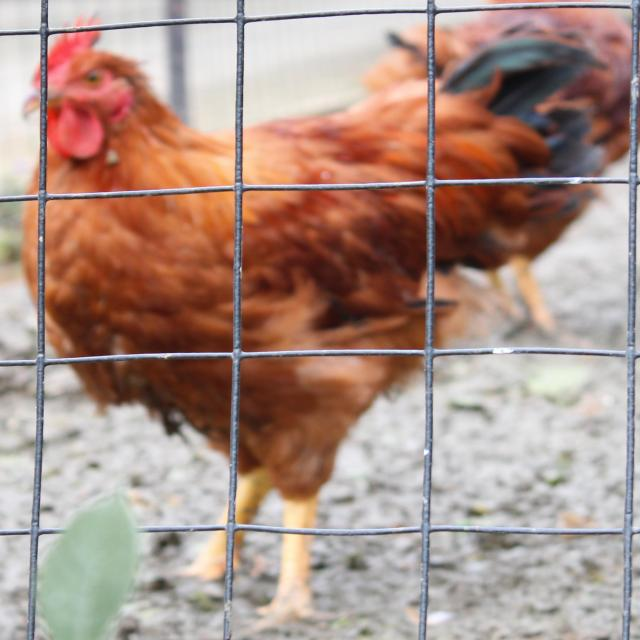cook: (237, 356, 420, 528), (46, 192, 235, 356), (46, 32, 234, 194), (241, 189, 426, 351), (436, 50, 606, 178), (244, 80, 426, 185), (76, 360, 232, 452), (436, 186, 591, 269), (260, 535, 314, 626), (436, 272, 481, 344), (22, 202, 39, 294)
